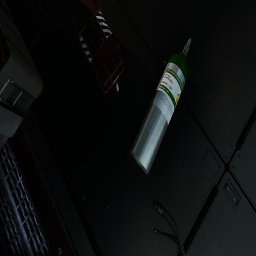0: (131, 38, 191, 174)
FirstAidBox ,: (70, 0, 126, 102)
